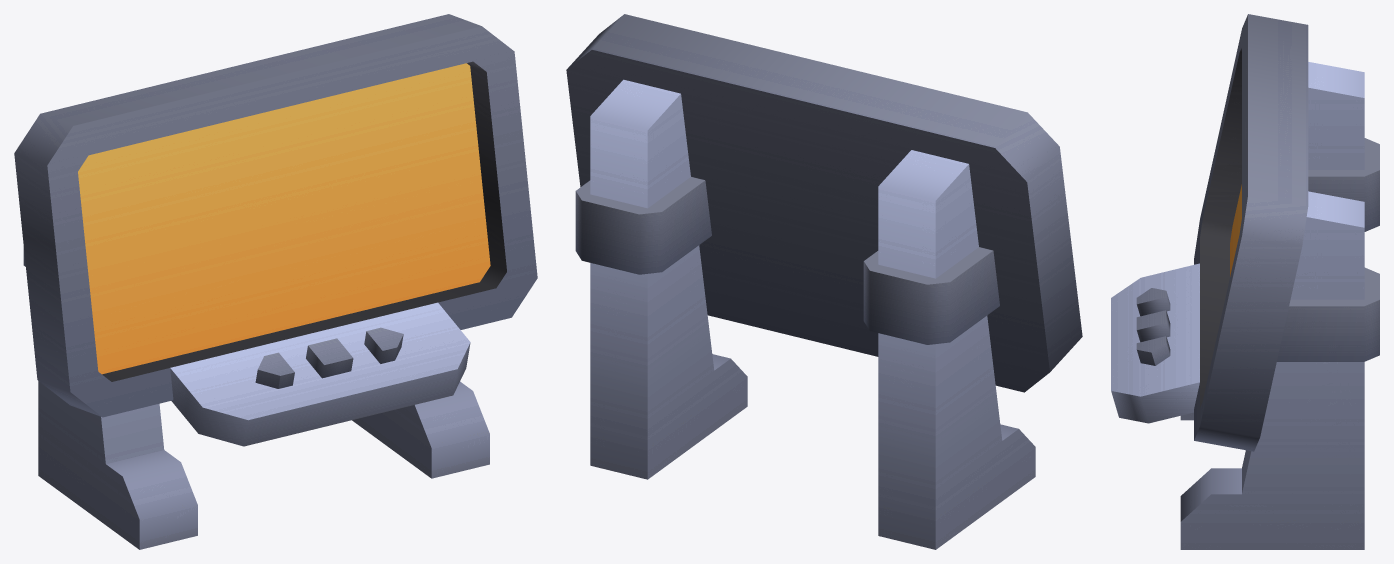
The model's file is computer-screen.glb.
3 renders of one model, left to right at view 1: azimuth 30°, elevation 25°; view 2: azimuth 150°, elevation 25°; view 3: azimuth 270°, elevation 25°, orthographic. The views are drawn at different scales.
Visible parts, largest first — view 1: computer-screen; view 2: computer-screen; view 3: computer-screen.
Boxes of the visible parts, x1,y1,x2,y2 form: computer-screen: [14, 14, 537, 549]; computer-screen: [566, 14, 1082, 549]; computer-screen: [1111, 14, 1379, 549].
Bounding box in the file's own units: 2.4 × 1.98 × 1.31.
1 material, 1 textured.
